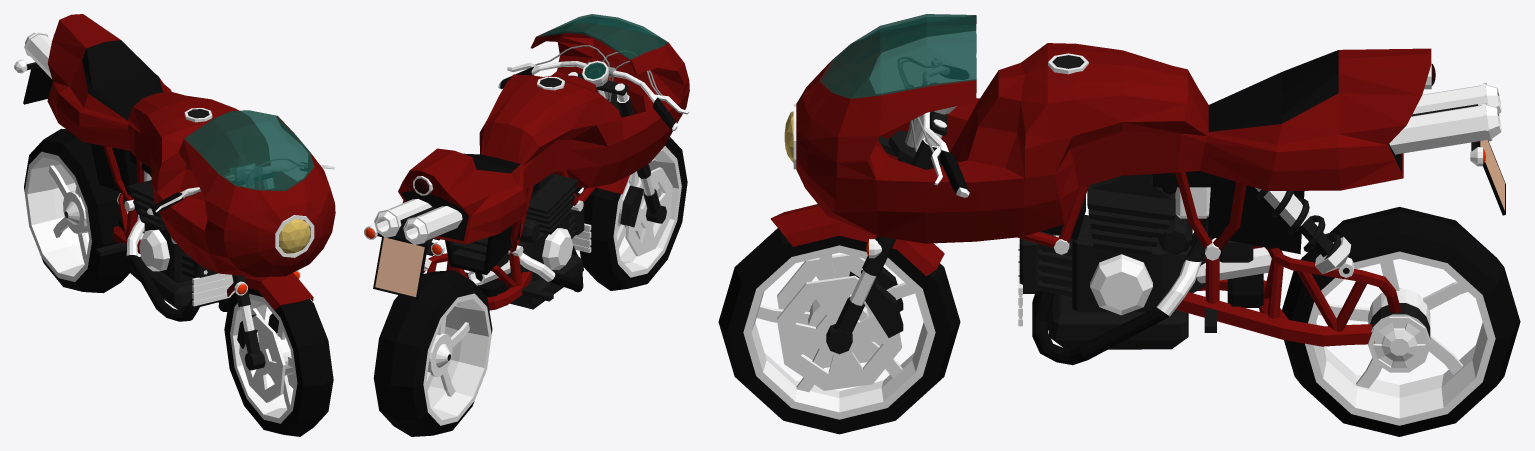
Rendered from Motorbike_02.FBX.
3 renders of one model, left to right at view 1: azimuth 30°, elevation 25°; view 2: azimuth 150°, elevation 25°; view 3: azimuth 270°, elevation 25°, orthographic. The views are drawn at different scales.
Visible parts, largest first — view 1: Motorcycle_02, wheel_b, wheel_f, motor, steering, mudguard, handlebars, headLights, exhausts, licensePlate, lights; view 2: Motorcycle_02, wheel_b, motor, wheel_f, steering, licensePlate, exhausts, handlebars, speedometer, lights; view 3: Motorcycle_02, motor, wheel_b, wheel_f, steering, exhausts, mudguard, handlebars, licensePlate.
Boxes of the visible parts, bbox=[...] form: Motorcycle_02: bbox=[26, 14, 335, 277]; wheel_b: bbox=[24, 128, 140, 293]; wheel_f: bbox=[224, 288, 333, 436]; motor: bbox=[91, 143, 234, 321]; steering: bbox=[232, 172, 294, 402]; mudguard: bbox=[227, 273, 313, 310]; handlebars: bbox=[147, 159, 334, 215]; headLights: bbox=[279, 219, 310, 253]; exhausts: bbox=[24, 32, 54, 78]; licensePlate: bbox=[23, 67, 52, 104]; lights: bbox=[14, 59, 314, 257]; Motorcycle_02: bbox=[377, 14, 689, 310]; wheel_b: bbox=[373, 270, 492, 436]; motor: bbox=[445, 173, 591, 309]; wheel_f: bbox=[579, 137, 687, 290]; steering: bbox=[568, 71, 672, 256]; licensePlate: bbox=[373, 236, 427, 299]; exhausts: bbox=[374, 199, 462, 244]; handlebars: bbox=[498, 45, 689, 130]; speedometer: bbox=[582, 60, 608, 87]; lights: bbox=[364, 176, 444, 255]; Motorcycle_02: bbox=[796, 14, 1478, 346]; motor: bbox=[1018, 171, 1304, 365]; wheel_b: bbox=[1282, 207, 1520, 436]; wheel_f: bbox=[718, 228, 960, 434]; steering: bbox=[777, 111, 947, 390]; exhausts: bbox=[1389, 82, 1501, 154]; mudguard: bbox=[770, 204, 944, 276]; handlebars: bbox=[898, 57, 969, 197]; licensePlate: bbox=[1476, 140, 1505, 215].
Size of the model in its own units: 8.5 by 12.92 by 23.09.
